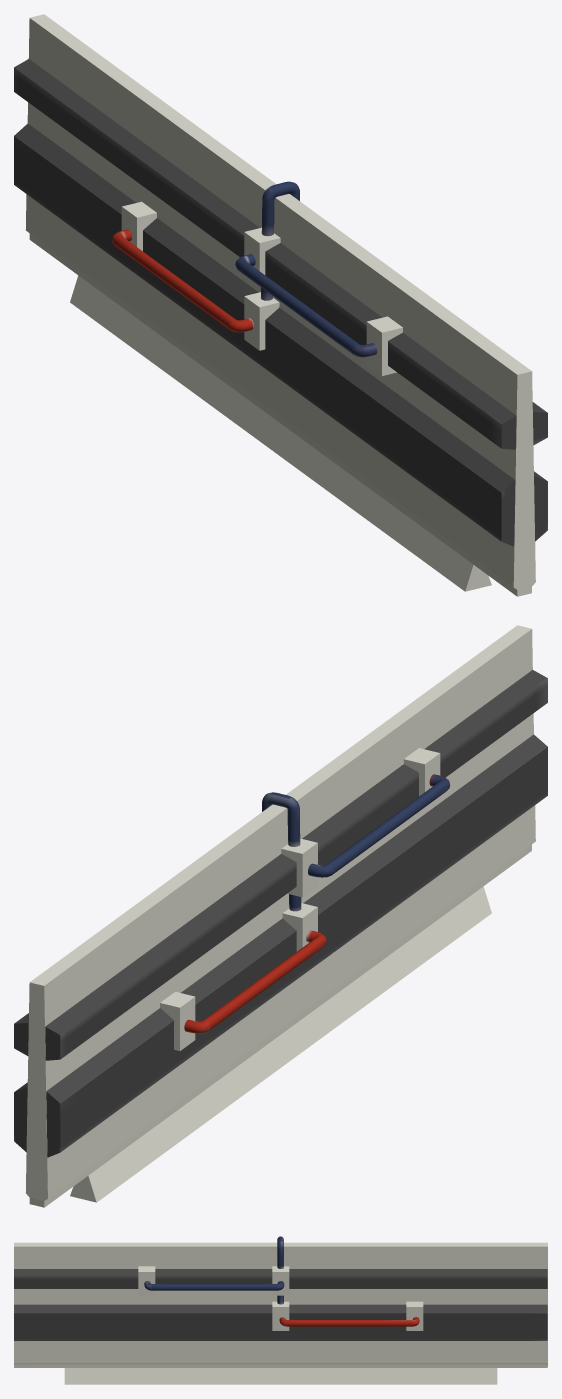
File: Valla5.fbx
3 renders of one model, top to bottom at view 1: azimuth 30°, elevation 25°; view 2: azimuth 150°, elevation 25°; view 3: azimuth 270°, elevation 25°, orthographic. The views are drawn at different scales.
Parts seen in each view (by area): view 1: Cube; view 2: Cube; view 3: Cube.
Part boxes in pixels (box(x1,y1,x2,y2)): Cube: box(14, 14, 547, 596); Cube: box(14, 625, 547, 1207); Cube: box(14, 1236, 547, 1384).
Size of the model in its own units: 90.86 by 234 by 797.
Materials: 1 (1 with a texture image).
